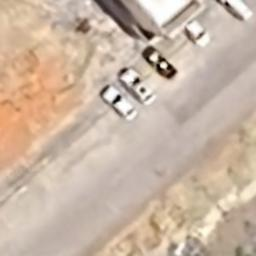SUV: (119, 65, 158, 106)
sedan: (98, 84, 140, 124)
unknown: (184, 18, 210, 48)
